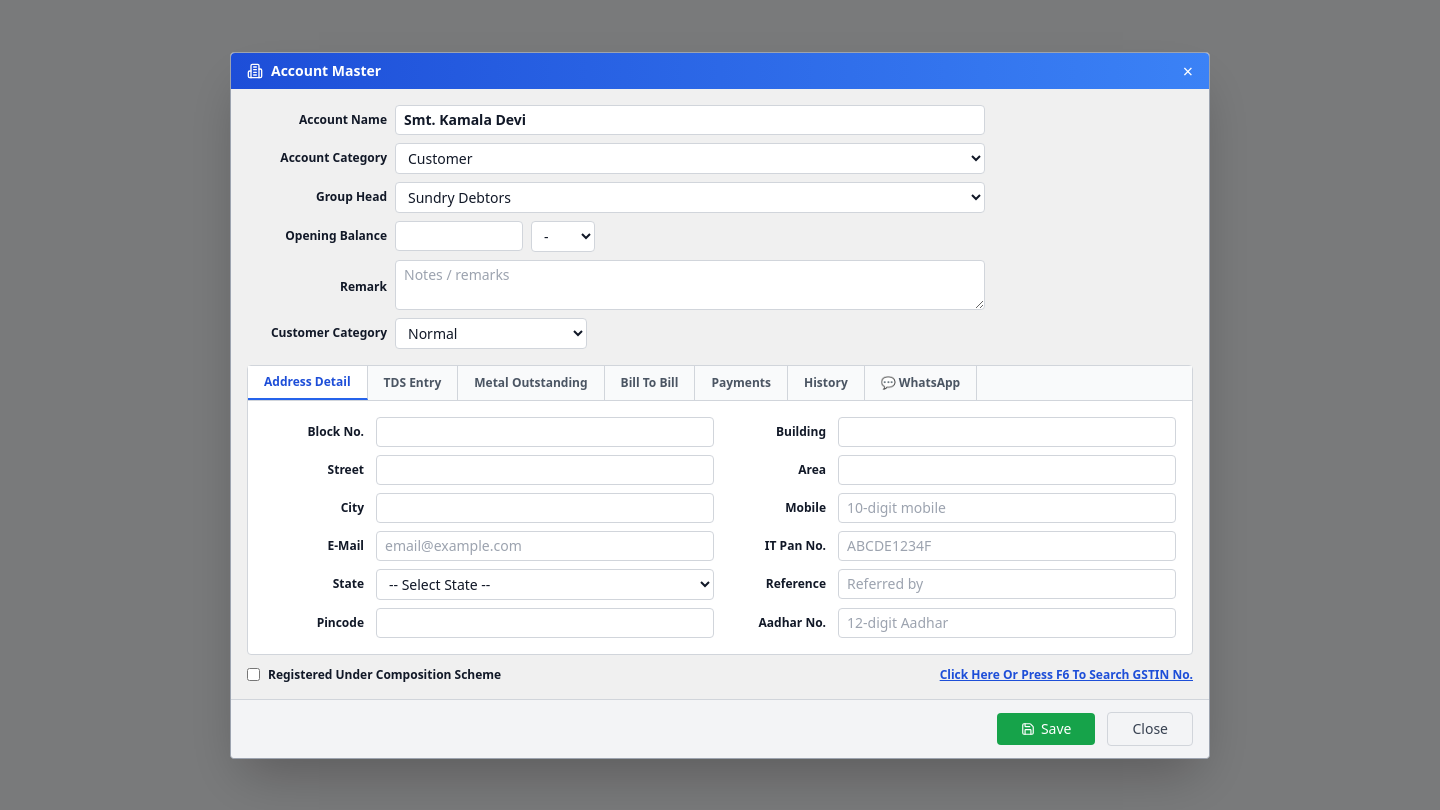
Test: AccountMasterModal — Payments tab consolidated scheme rows › expands installment rows when the consolidated row is clicked
The image size is (1440, 810).
Click the button "Payments" at (742, 382), box [696,366,788,400]
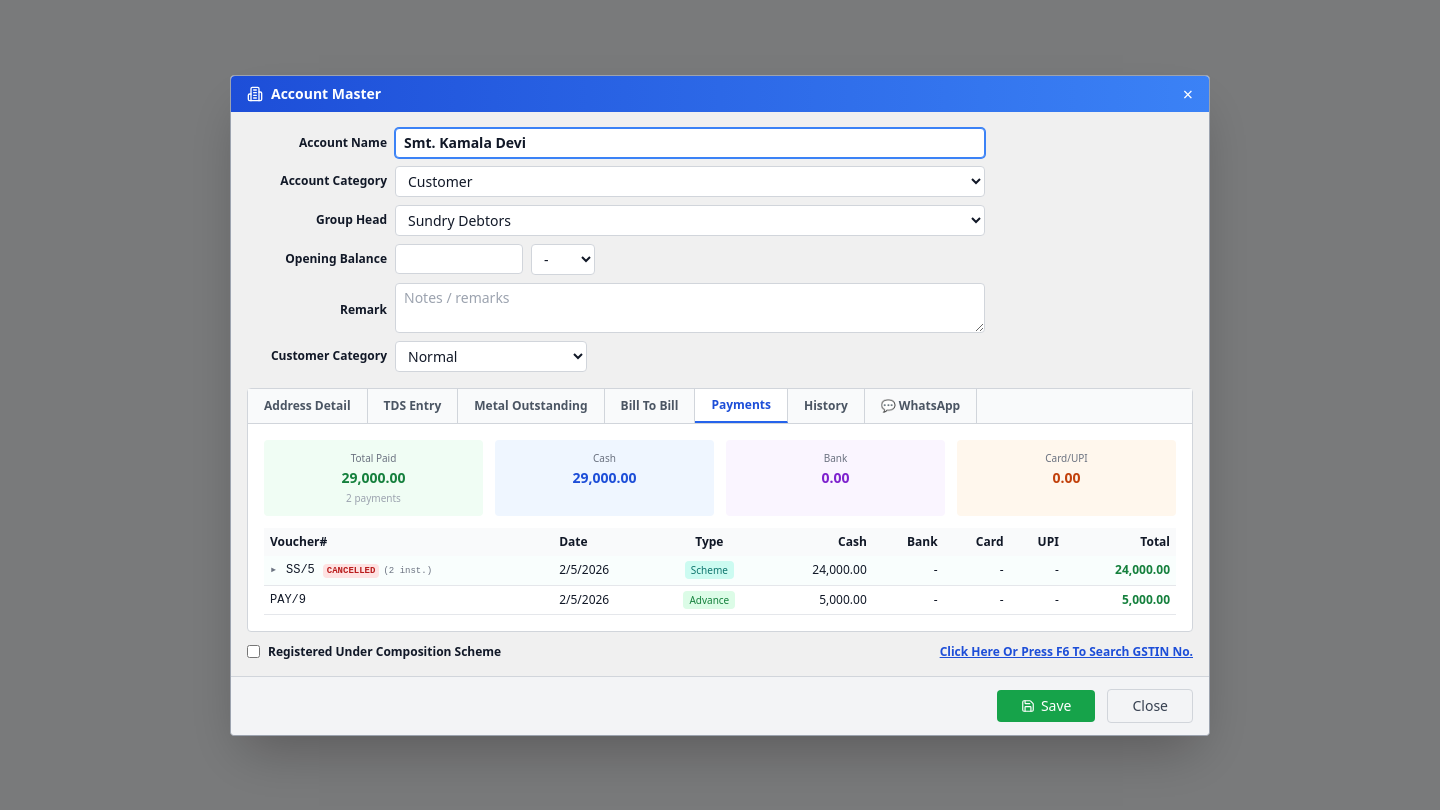
Click the row with test id "modal-scheme-consolidated-7" at (720, 570), box [264,556,1176,585]
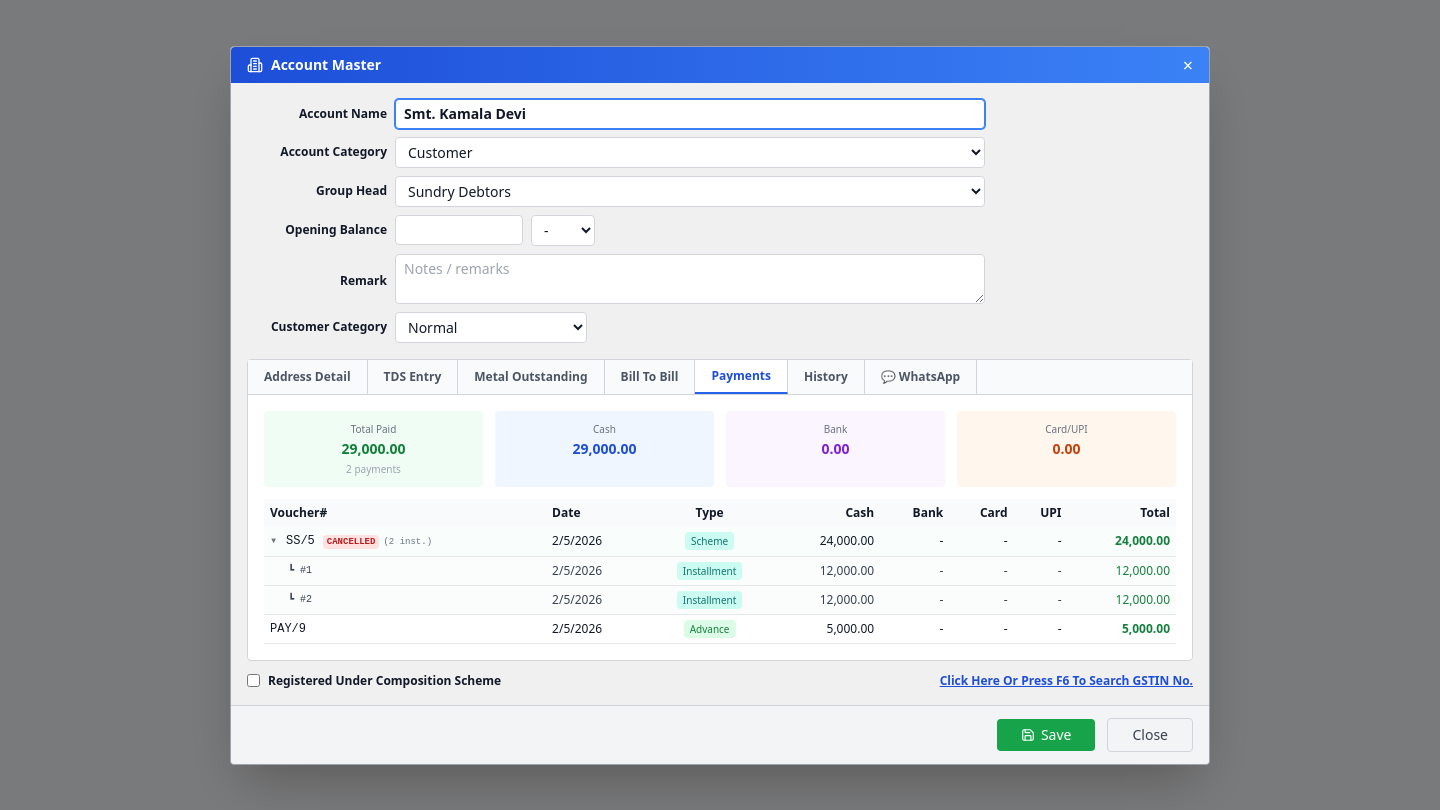
Check: the row with test id "modal-scheme-child-7-1" is shown, box [264,556,1176,585]
Check: the row with test id "modal-scheme-child-7-2" is shown, box [264,585,1176,614]
